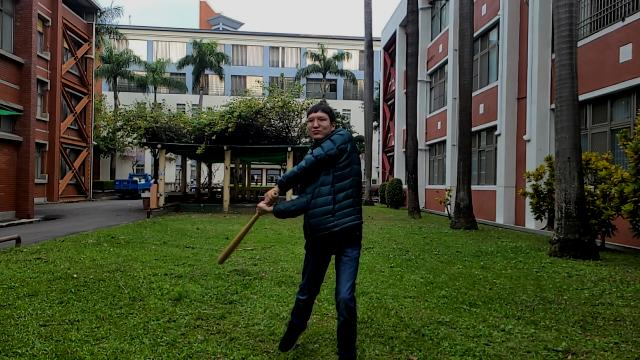baseball bat: (216, 213, 260, 265)
